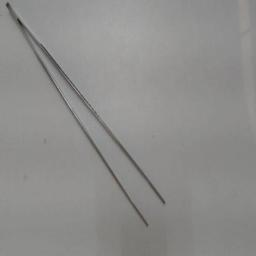DeBakey Dissector: (1, 2, 177, 234)
